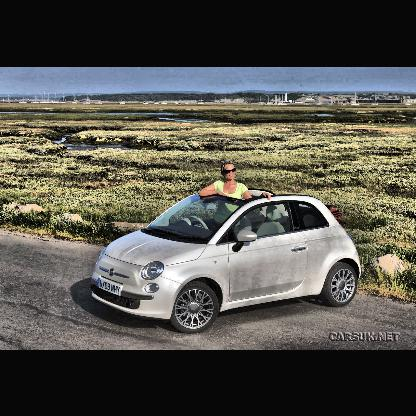FIAT 500 Convertible 2012: (90, 189, 364, 335)
